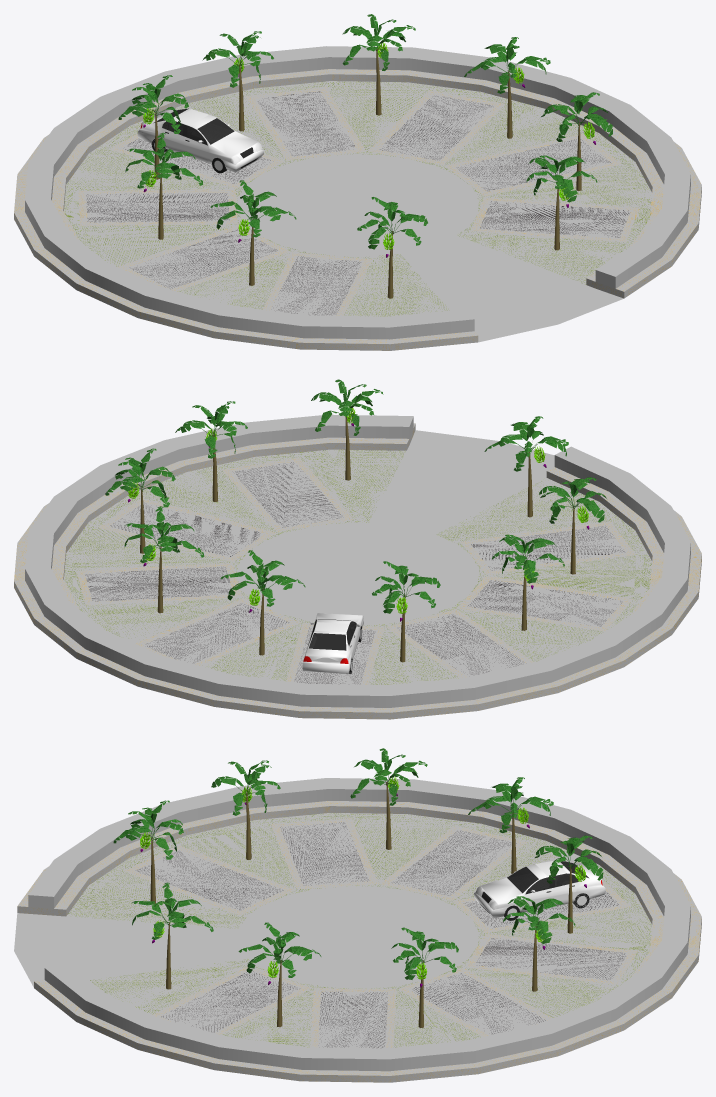
File: parking_villa.dae
The picture shows the model from 3 angles, top to bottom: view 1: azimuth 30°, elevation 25°; view 2: azimuth 150°, elevation 25°; view 3: azimuth 270°, elevation 25°; orthographic projection.
Visible parts, largest first — view 1: group_0 (×20), CarCore_1, CarCore_2; view 2: group_0 (×20), CarCore_1, CarCore_2; view 3: group_0 (×20), CarCore_2, CarCore_1.
Part boxes in pixels (bbox=[...]): group_0 (×20): bbox=[14, 46, 701, 350]; CarCore_1: bbox=[137, 114, 250, 172]; CarCore_2: bbox=[156, 108, 263, 165]; group_0 (×20): bbox=[14, 414, 701, 719]; CarCore_1: bbox=[325, 614, 363, 673]; CarCore_2: bbox=[302, 613, 339, 672]; group_0 (×20): bbox=[14, 778, 701, 1082]; CarCore_2: bbox=[483, 866, 605, 918]; CarCore_1: bbox=[474, 860, 590, 909].
Size of the model in its own units: 1049 by 1049 by 165.
